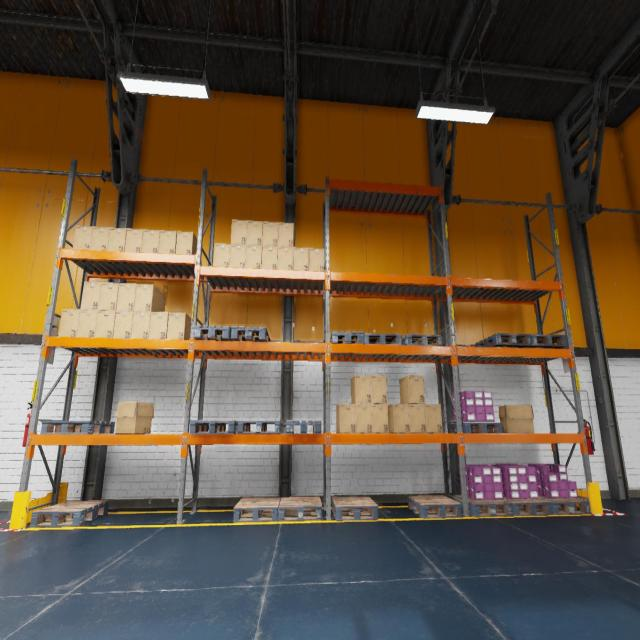box: (115, 402, 153, 434), (499, 405, 534, 433), (134, 284, 166, 311), (399, 375, 425, 404), (167, 312, 191, 340), (388, 404, 410, 433), (80, 281, 102, 310), (94, 310, 116, 338), (58, 308, 80, 336), (98, 282, 119, 311), (336, 403, 356, 433), (76, 310, 98, 337), (351, 374, 371, 403), (113, 310, 133, 338), (116, 283, 136, 311), (130, 311, 150, 338), (149, 312, 168, 339), (175, 231, 197, 254), (425, 404, 442, 433), (409, 404, 426, 433), (90, 226, 110, 250), (371, 374, 387, 403), (372, 404, 388, 433), (356, 404, 372, 433), (107, 228, 127, 251), (72, 226, 92, 249), (158, 230, 177, 254), (125, 228, 144, 252), (246, 220, 263, 246), (141, 230, 160, 252), (213, 243, 230, 267), (278, 222, 294, 247), (262, 221, 278, 246), (231, 219, 247, 244), (261, 246, 278, 269), (245, 245, 262, 268), (229, 244, 246, 267), (293, 247, 309, 270), (277, 247, 293, 270), (309, 248, 324, 271)
pallets: (30, 500, 109, 527), (453, 494, 513, 517), (407, 495, 462, 518), (233, 497, 281, 522), (332, 496, 378, 520), (278, 496, 322, 521), (539, 495, 591, 515), (40, 421, 115, 434), (502, 497, 552, 516), (475, 333, 532, 347), (511, 334, 567, 348), (190, 420, 238, 434), (230, 326, 270, 341), (237, 421, 283, 434), (194, 325, 232, 340), (447, 423, 503, 433), (402, 334, 443, 346), (286, 420, 321, 434), (330, 331, 364, 344), (364, 334, 402, 344)
